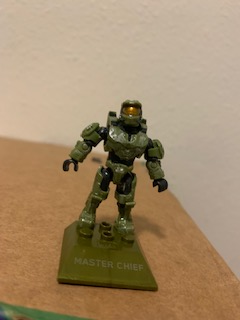chief: (61, 98, 170, 241)
spartan: (59, 96, 168, 239)
